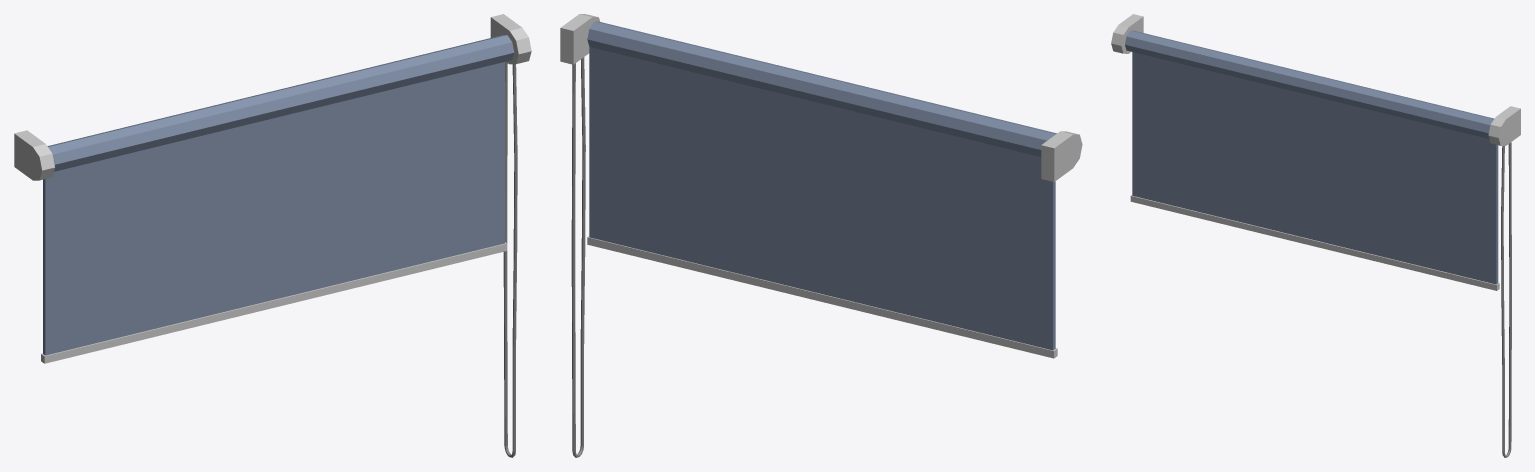
File: Curtains4_C1.fbx
The picture shows the model from 3 angles, left to right: view 1: azimuth 30°, elevation 25°; view 2: azimuth 150°, elevation 25°; view 3: azimuth 330°, elevation 25°; orthographic projection. The views are drawn at different scales.
Parts seen in each view (by area): view 1: Curtains4_C1; view 2: Curtains4_C1; view 3: Curtains4_C1.
Boxes of the visible parts, x1,y1,x2,y2 form: Curtains4_C1: [14, 14, 531, 457]; Curtains4_C1: [560, 14, 1082, 457]; Curtains4_C1: [1111, 14, 1520, 457].
Size of the model in its own units: 96.44 by 81.55 by 9.55.
